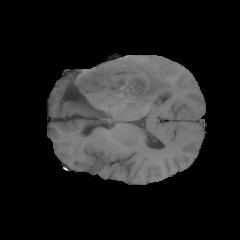glioma: (57, 59, 173, 121)
